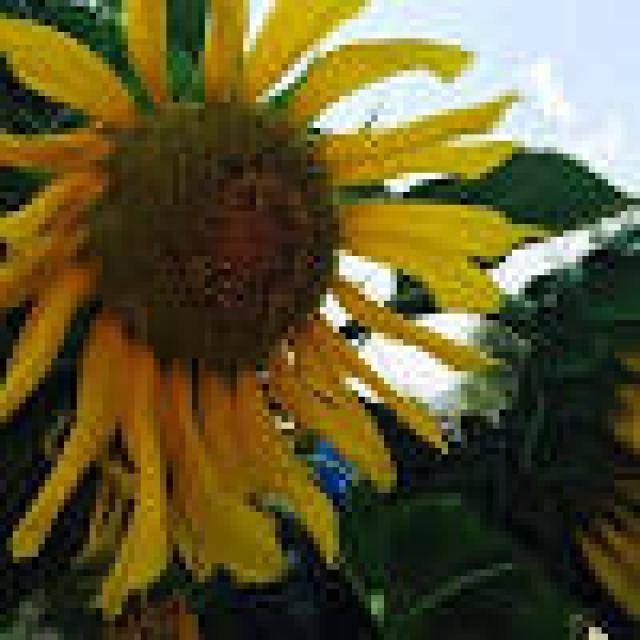sunflower: (1, 0, 564, 614)
